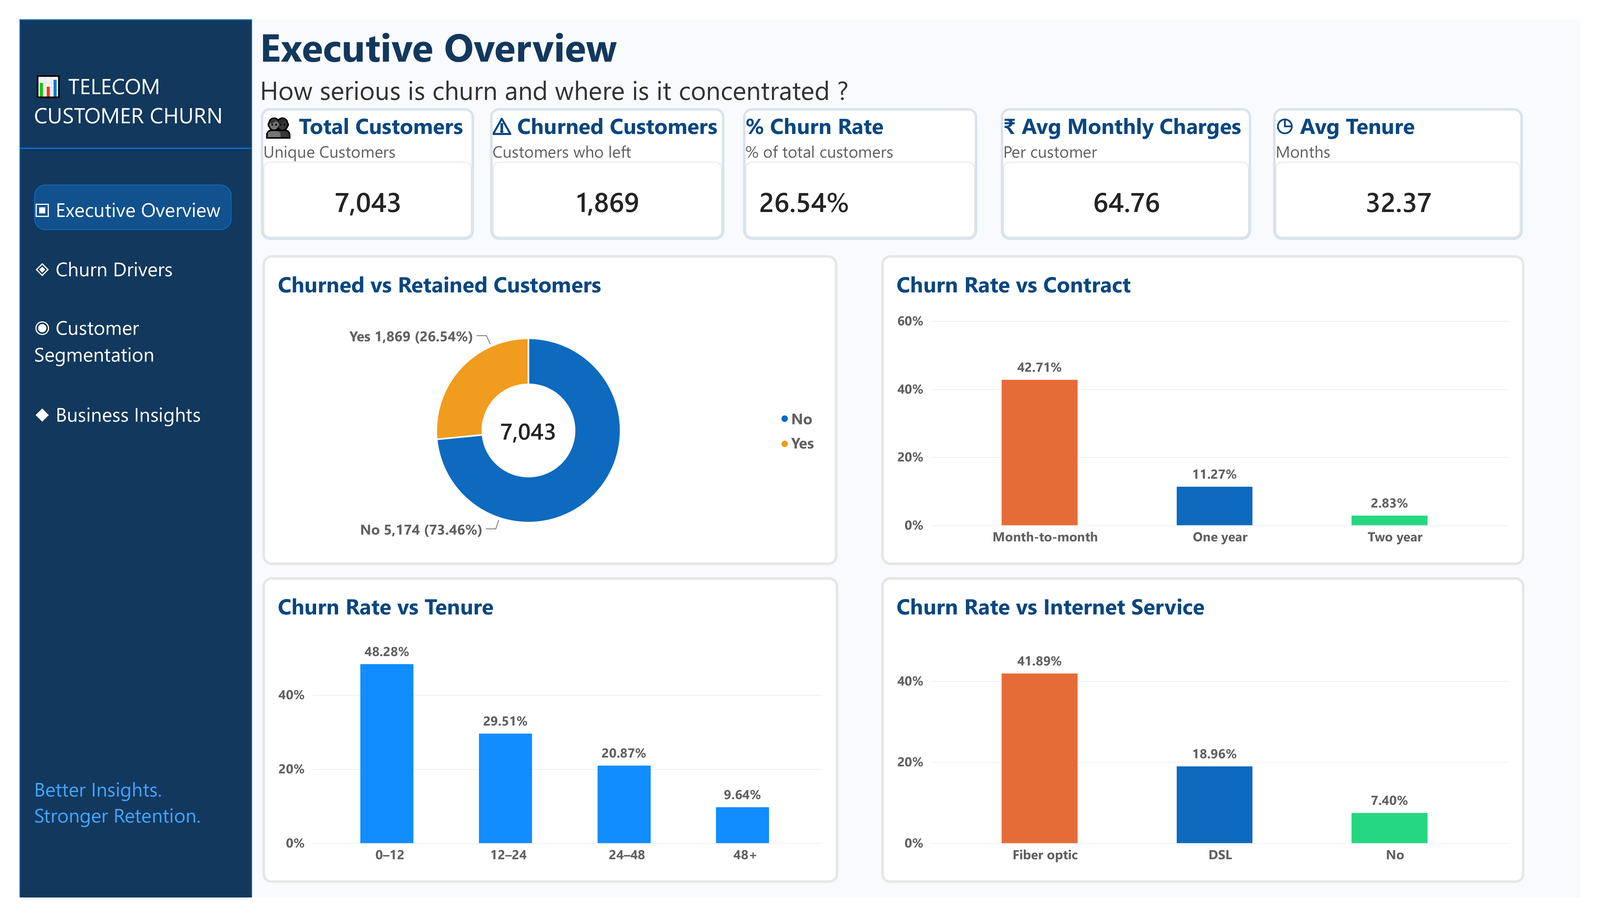

This screenshot's page, from the dashboard's own definition file:
{"tool":"powerbi","page":{"name":"Page 1","canvas":[1920,1080],"ordinal":0},"visuals":[{"type":"textbox","box":[296.4,0,461.1,63.8],"z":0},{"type":"shape","box":[0,0,286.1,1080.6],"z":1000},{"type":"textbox","box":[296.4,63.8,940.7,43.2],"z":2000},{"type":"textbox","box":[18.1,63.3,242.5,86.9],"z":3000},{"type":"cardVisual","title":"👥  Total Customers","fields":{"Data":["WA_Fn-UseC_-Telco-Customer-Churn.Total Customers"]},"box":[296.8,108.6,262.4,162.9],"z":4000},{"type":"shape","box":[0,99.5,285.9,117.6],"z":5000},{"type":"cardVisual","title":"⚠   Churned Customers","fields":{"Data":["WA_Fn-UseC_-Telco-Customer-Churn.Churned Customers"]},"box":[579.1,108.6,287.7,162.9],"z":6000},{"type":"textbox","box":[18.1,289.5,242.5,38],"z":7000},{"type":"cardVisual","title":"%   Churn Rate","fields":{"Data":["WA_Fn-UseC_-Telco-Customer-Churn.Churn Rate"]},"box":[890.4,108.6,287.7,162.9],"z":8000},{"type":"textbox","box":[18.1,361.9,267.8,67],"z":9000},{"type":"cardVisual","title":"₹   Avg Monthly Charges","fields":{"Data":["WA_Fn-UseC_-Telco-Customer-Churn.Average Monthly Charges"]},"box":[1207,108.6,307.6,162.9],"z":10000},{"type":"textbox","box":[18.1,468.7,242.5,54.3],"z":11000},{"type":"cardVisual","title":"◷   Avg Tenure","fields":{"Data":["WA_Fn-UseC_-Telco-Customer-Churn.Average Tenure"]},"box":[1541.8,108.6,307.6,162.9],"z":12000},{"type":"textbox","box":[18.1,930.2,242.5,103.2],"z":13000},{"type":"donutChart","title":"Churned vs Retained Customers","fields":{"Category":["WA_Fn-UseC_-Telco-Customer-Churn.Churn"],"Y":["WA_Fn-UseC_-Telco-Customer-Churn.Total Customers"]},"box":[298.6,289.5,707.6,381.8],"z":14000},{"type":"shape","box":[18.1,202.7,242.5,56.1],"z":15000},{"type":"clusteredColumnChart","title":"Churn Rate vs Tenure ","fields":{"Category":["WA_Fn-UseC_-Telco-Customer-Churn.Tenure Bucket"],"Y":["WA_Fn-UseC_-Telco-Customer-Churn.Churn Rate"]},"box":[298.6,685.9,708,376],"z":16000},{"type":"clusteredColumnChart","title":"Churn Rate vs Contract","fields":{"Category":["WA_Fn-UseC_-Telco-Customer-Churn.Contract"],"Y":["WA_Fn-UseC_-Telco-Customer-Churn.Churn Rate"]},"box":[1060.5,289.5,790.8,381.8],"z":17000},{"type":"clusteredColumnChart","title":"Churn Rate vs Internet Service","fields":{"Category":["WA_Fn-UseC_-Telco-Customer-Churn.InternetService"],"Y":["WA_Fn-UseC_-Telco-Customer-Churn.Churn Rate"]},"box":[1060.5,685.9,790.8,376.4],"z":18000},{"type":"textbox","box":[18.1,217.2,242.5,41.6],"z":19000}]}

Visuals, with their boxes on the page's 1920x1080 design canvas (x1, y1, x2, y2). These are canvas units, not pixel positions in the 1600x917 screenshot, which may show the page scaled, cropped or inside an application window:
textbox: {"left": 296, "top": 0, "right": 758, "bottom": 64}
shape: {"left": 0, "top": 0, "right": 286, "bottom": 1081}
textbox: {"left": 296, "top": 64, "right": 1237, "bottom": 107}
textbox: {"left": 18, "top": 63, "right": 261, "bottom": 150}
"👥  Total Customers" cardVisual: {"left": 297, "top": 109, "right": 559, "bottom": 272}
shape: {"left": 0, "top": 100, "right": 286, "bottom": 217}
"⚠   Churned Customers" cardVisual: {"left": 579, "top": 109, "right": 867, "bottom": 272}
textbox: {"left": 18, "top": 290, "right": 261, "bottom": 328}
"%   Churn Rate" cardVisual: {"left": 890, "top": 109, "right": 1178, "bottom": 272}
textbox: {"left": 18, "top": 362, "right": 286, "bottom": 429}
"₹   Avg Monthly Charges" cardVisual: {"left": 1207, "top": 109, "right": 1515, "bottom": 272}
textbox: {"left": 18, "top": 469, "right": 261, "bottom": 523}
"◷   Avg Tenure" cardVisual: {"left": 1542, "top": 109, "right": 1849, "bottom": 272}
textbox: {"left": 18, "top": 930, "right": 261, "bottom": 1033}
"Churned vs Retained Customers" donutChart: {"left": 299, "top": 290, "right": 1006, "bottom": 671}
shape: {"left": 18, "top": 203, "right": 261, "bottom": 259}
"Churn Rate vs Tenure " clusteredColumnChart: {"left": 299, "top": 686, "right": 1007, "bottom": 1062}
"Churn Rate vs Contract" clusteredColumnChart: {"left": 1060, "top": 290, "right": 1851, "bottom": 671}
"Churn Rate vs Internet Service" clusteredColumnChart: {"left": 1060, "top": 686, "right": 1851, "bottom": 1062}
textbox: {"left": 18, "top": 217, "right": 261, "bottom": 259}
